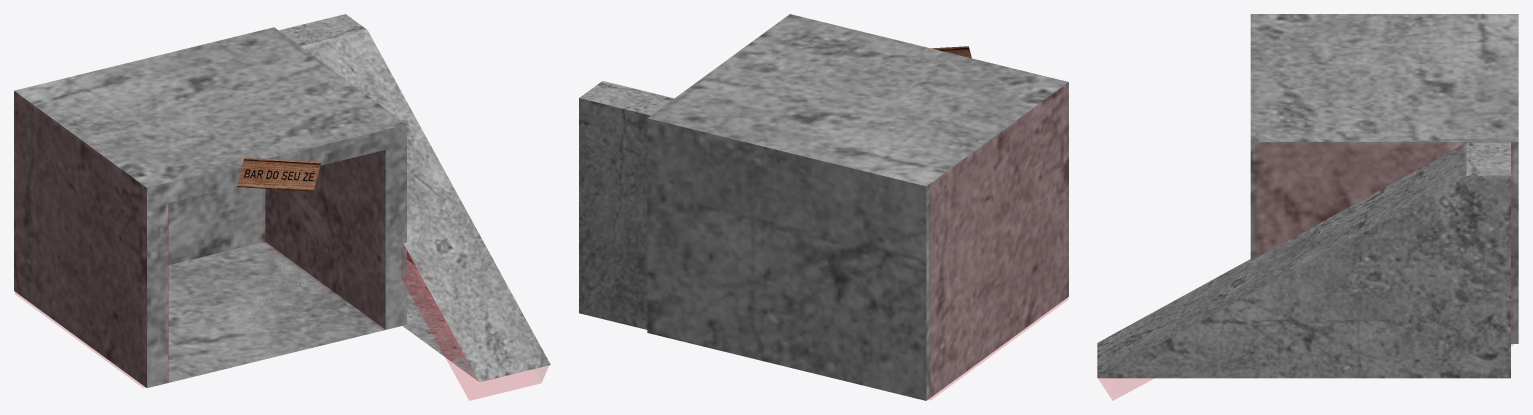
The model's file is building.glb.
The picture shows the model from 3 angles, left to right: view 1: azimuth 30°, elevation 25°; view 2: azimuth 150°, elevation 25°; view 3: azimuth 270°, elevation 25°; orthographic projection. The views are drawn at different scales.
Visible parts, largest first — view 1: Building, Ramp, box1.002, Plate, box1; view 2: Building, Ramp, box1; view 3: Ramp, Building, box1.002.
Boxes of the visible parts, box(x1,y1,x2,y2) form: Building: box(14, 27, 406, 387); Ramp: box(279, 14, 550, 382); box1.002: box(401, 251, 548, 400); Plate: box(237, 157, 321, 191); box1: box(15, 94, 168, 387); Building: box(647, 14, 1068, 400); Ramp: box(579, 81, 674, 329); box1: box(929, 86, 1067, 399); Ramp: box(1097, 142, 1510, 378); Building: box(1250, 14, 1518, 343); box1.002: box(1099, 378, 1153, 400).
Bounding box in the file's own units: 9.22 × 6.24 × 10.14.
3 materials, 2 textured.
